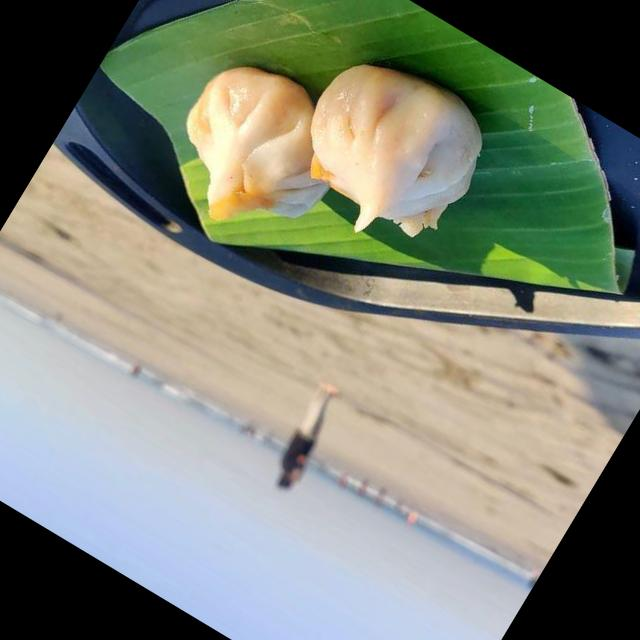modak: (266, 19, 510, 270), (140, 30, 377, 268)
